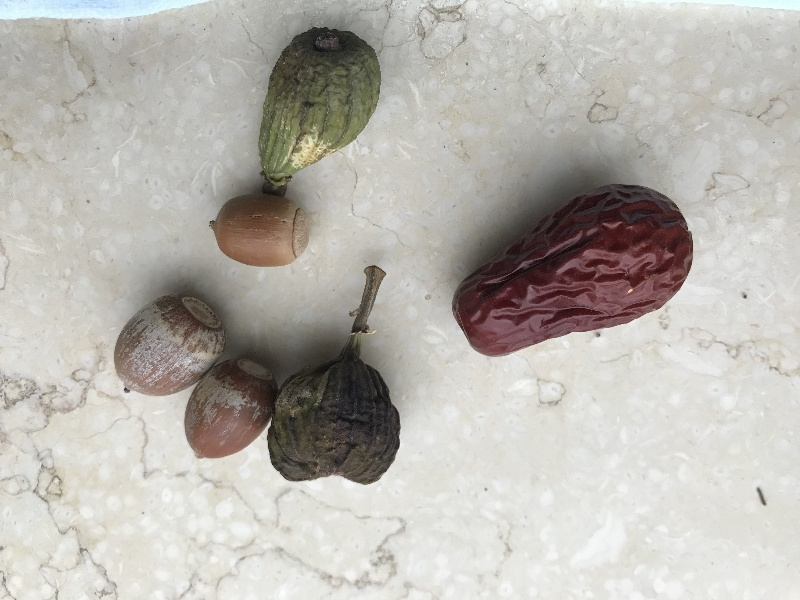date: (451, 182, 695, 359)
fig: (267, 266, 402, 489), (256, 27, 381, 192)
hazelnut: (113, 295, 226, 397), (183, 359, 275, 459), (208, 193, 313, 266)
